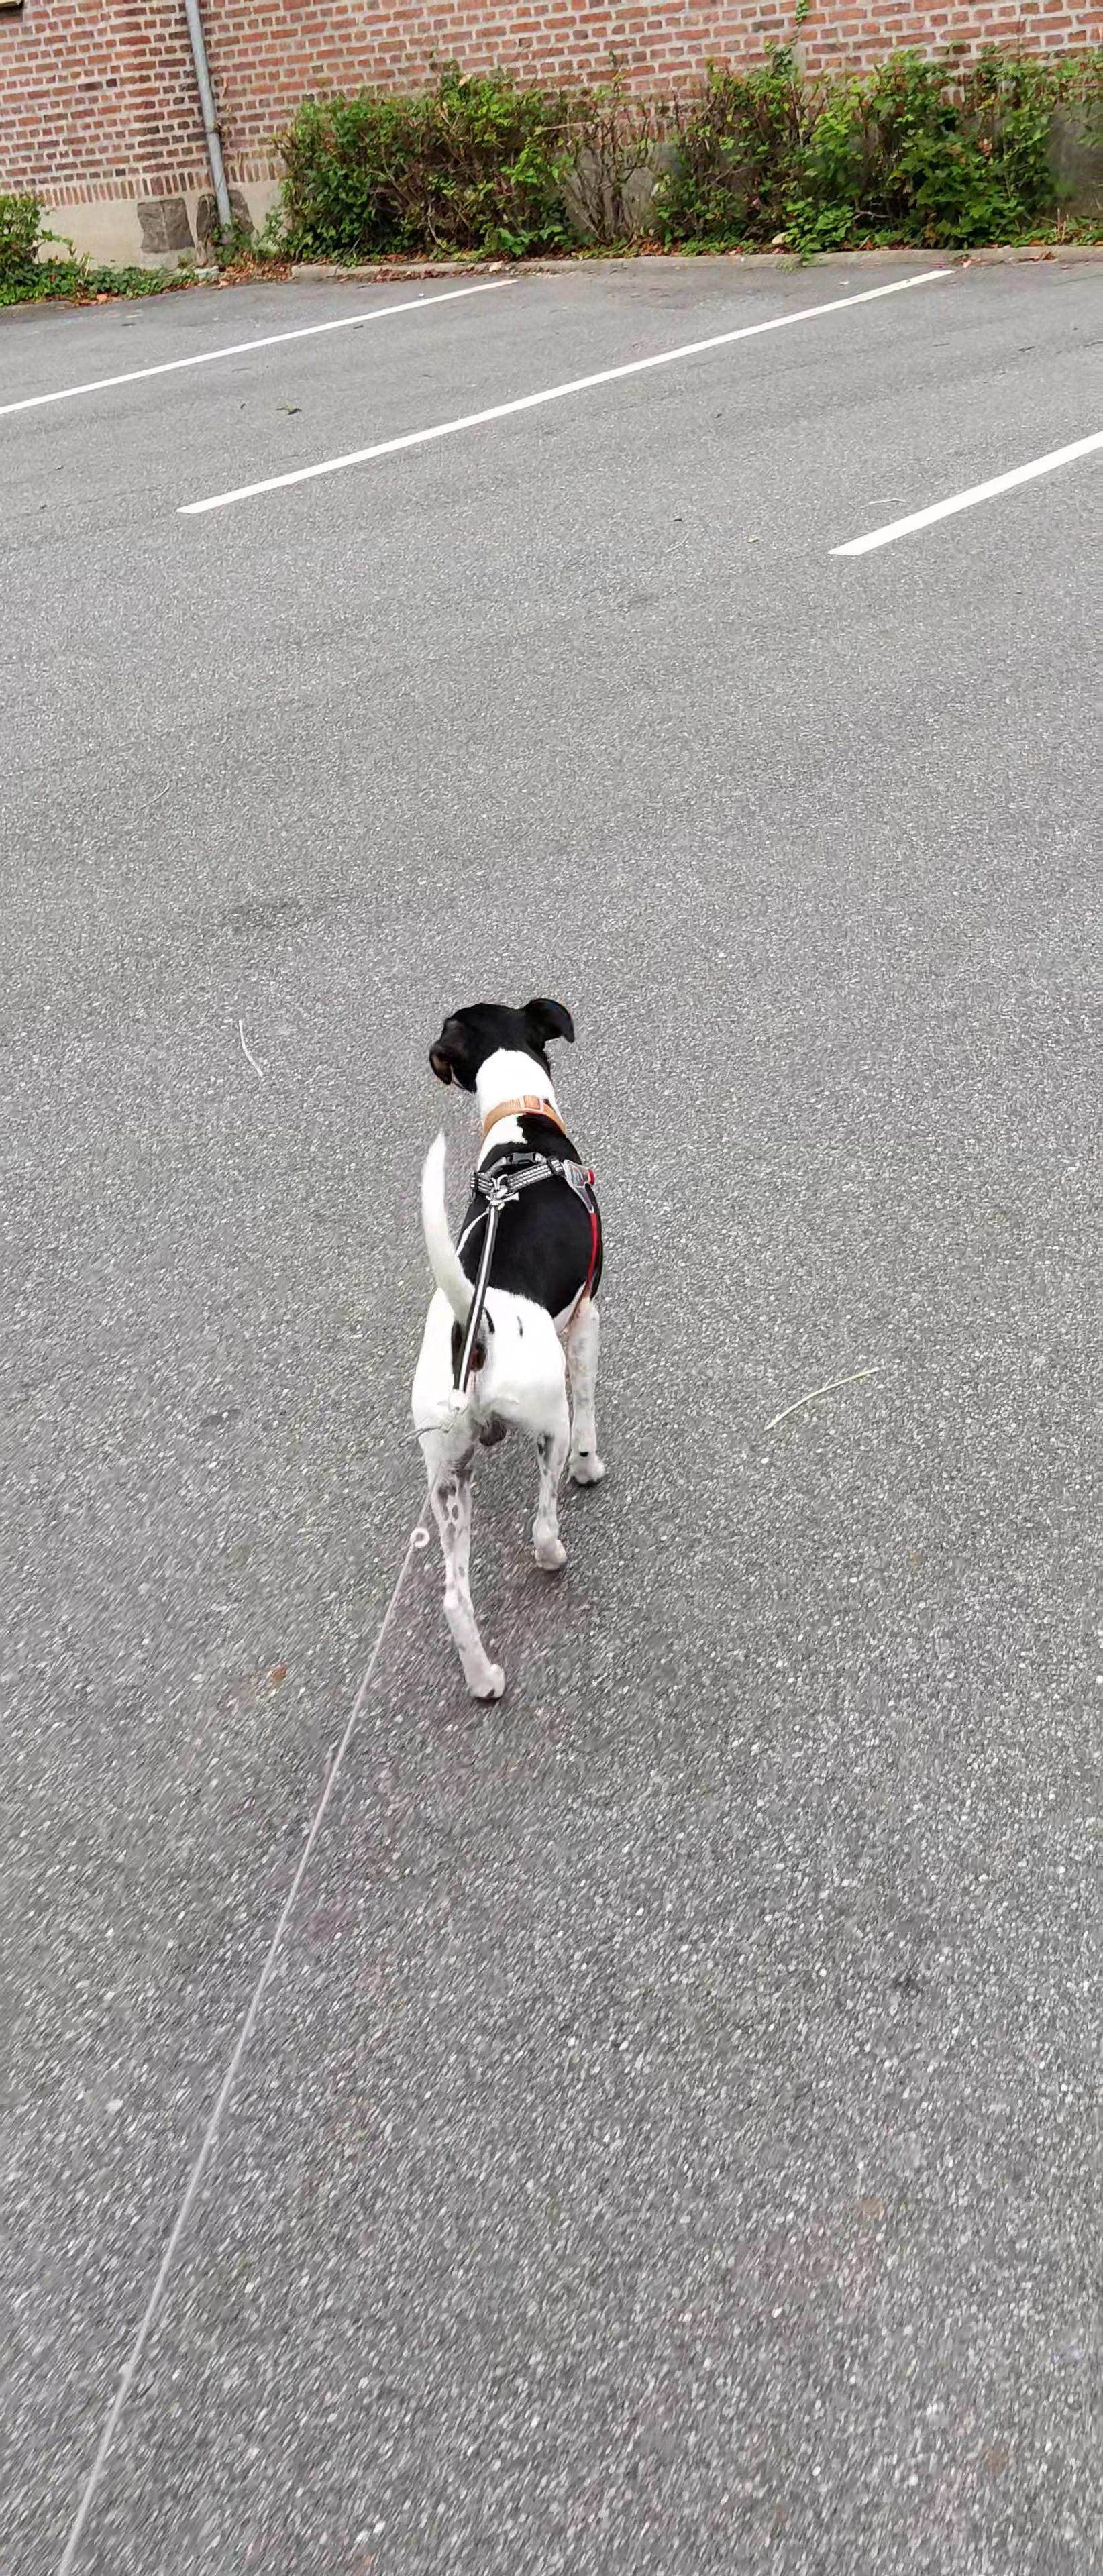Dog: (376, 958, 659, 1715)
